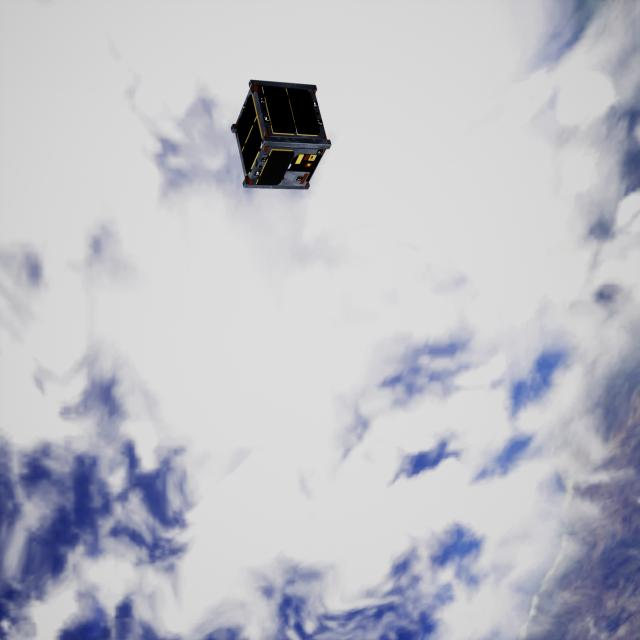medium_debris: (224, 78, 333, 200)
